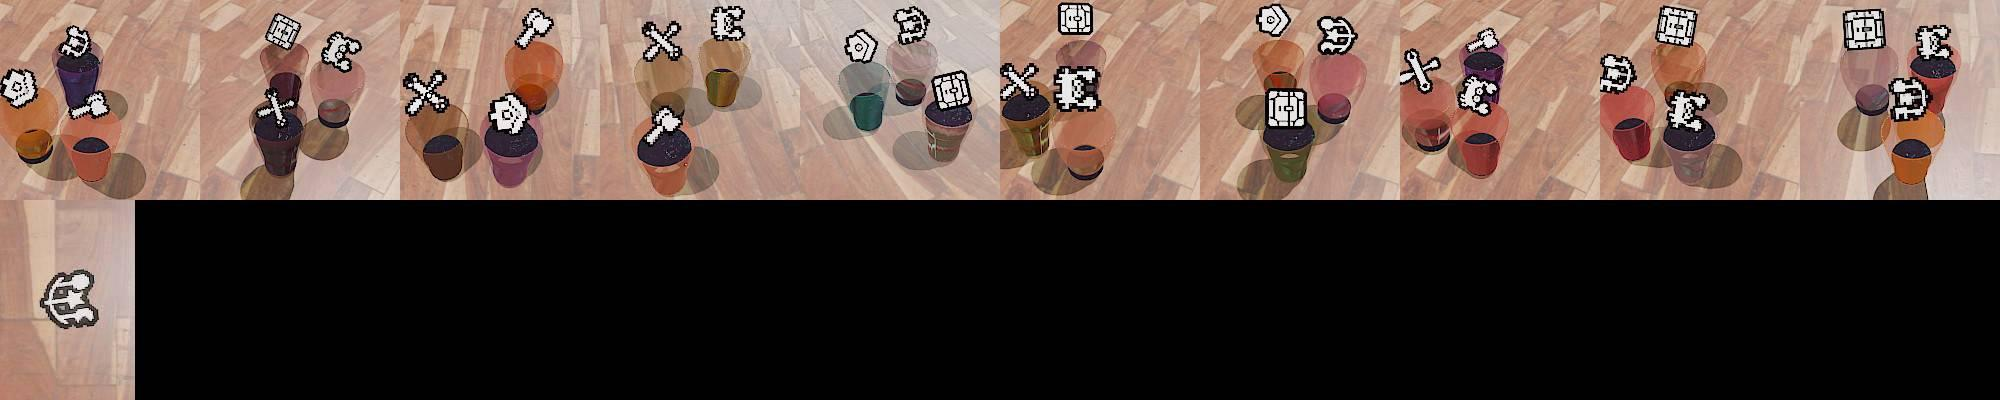icon: (38, 268, 100, 330), (1052, 64, 1101, 114), (402, 69, 451, 117), (486, 92, 533, 136), (1266, 85, 1309, 132), (1655, 5, 1698, 49), (1887, 75, 1929, 120), (255, 87, 298, 130), (641, 20, 684, 63), (1842, 9, 1884, 52), (930, 70, 971, 113), (515, 7, 556, 50), (321, 29, 362, 72), (1000, 61, 1041, 103), (1401, 48, 1439, 93), (1316, 15, 1356, 57), (0, 67, 40, 109), (643, 104, 683, 146), (1599, 51, 1638, 94), (1457, 75, 1498, 114), (892, 5, 930, 46), (1668, 90, 1707, 129), (265, 12, 302, 52), (709, 4, 745, 42), (1915, 25, 1952, 61), (1255, 3, 1292, 39), (67, 91, 111, 120), (1057, 2, 1094, 36), (844, 29, 878, 65), (60, 24, 93, 58), (1467, 26, 1500, 54)
